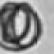correct: (0, 0, 43, 54)
